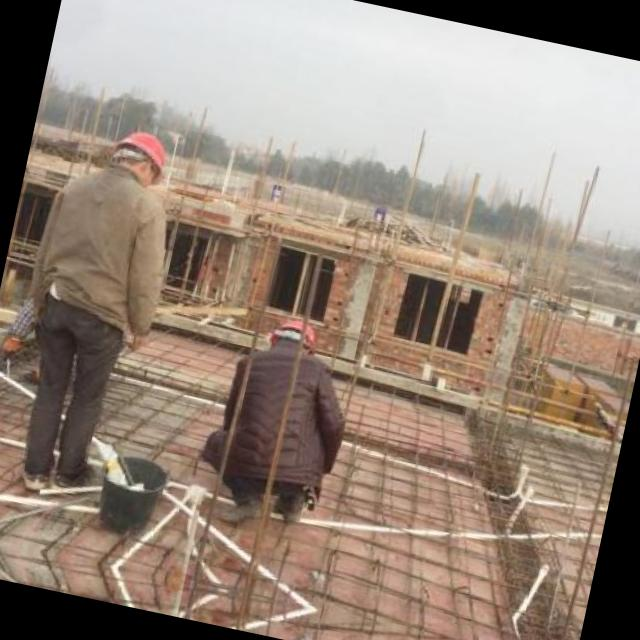helmet: (97, 115, 181, 197), (262, 306, 325, 364)
